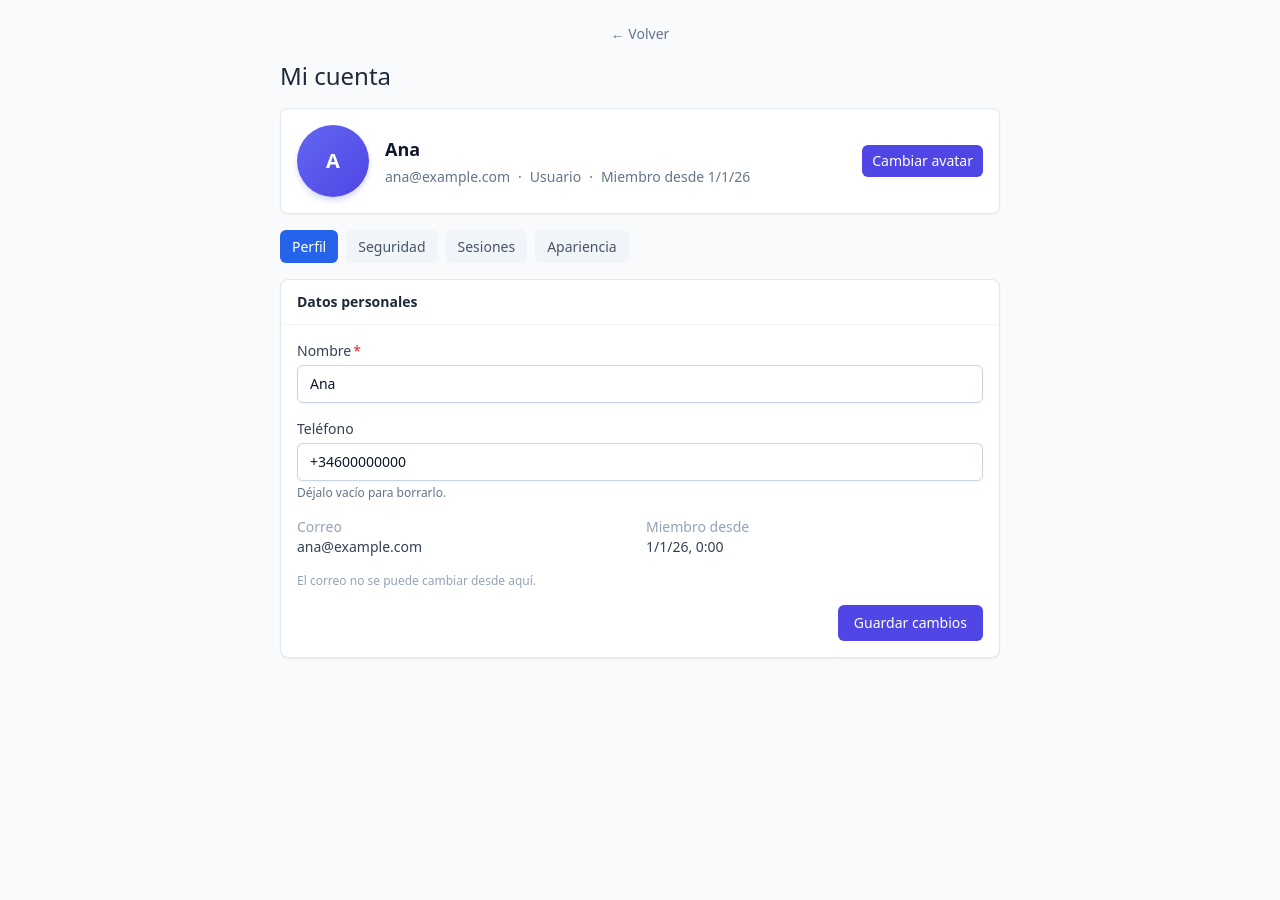
Scenario: AccountPage › precarga el perfil y lo guarda
Replace the text in the field labelled "Nombre*" with "Ana María" at (640, 384), box [297,365,983,403]
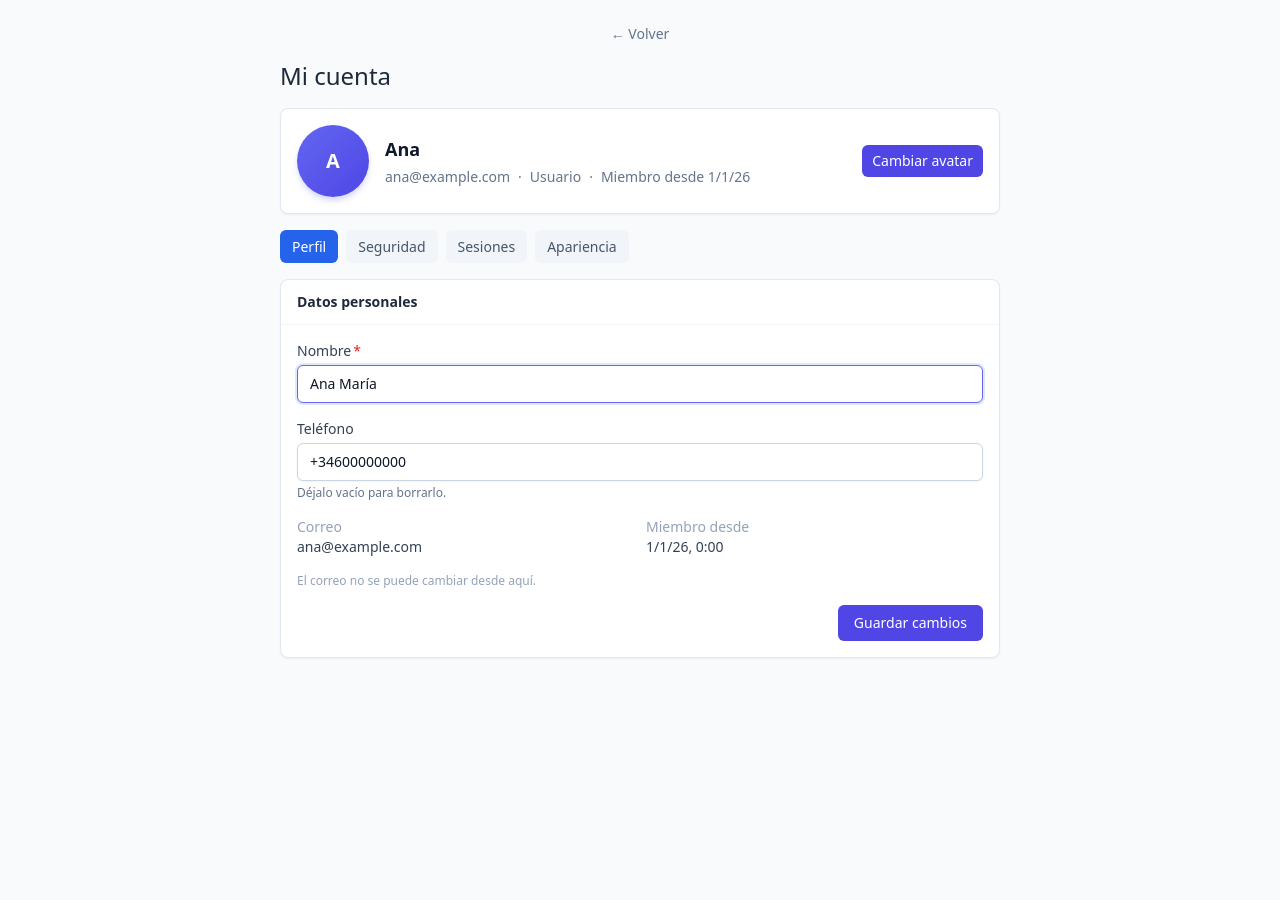
Click the button "Guardar cambios".
click(910, 623)  # box [838,605,983,641]
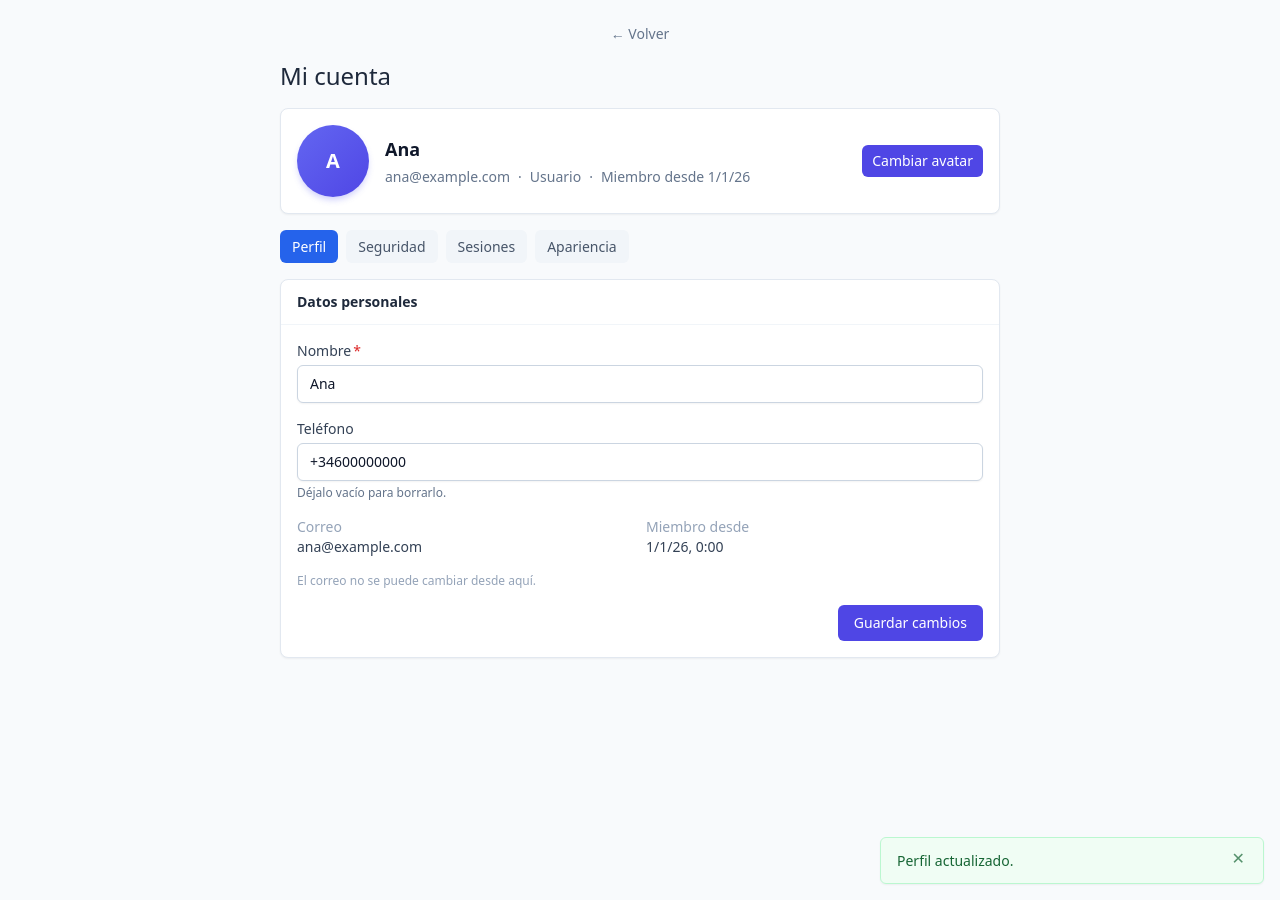
Expected: the text "Perfil actualizado." is shown, [897,851,1014,870]
